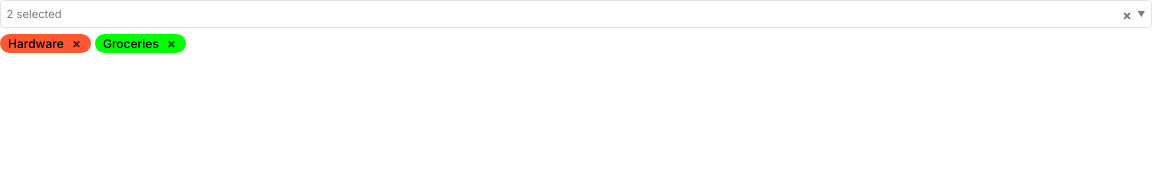
it: TagFilterSelect component › shows footer with count and clear all link when tags selected
The image size is (1152, 172).
Click the dropdown.
click(576, 14)  # box [0,0,1151,28]
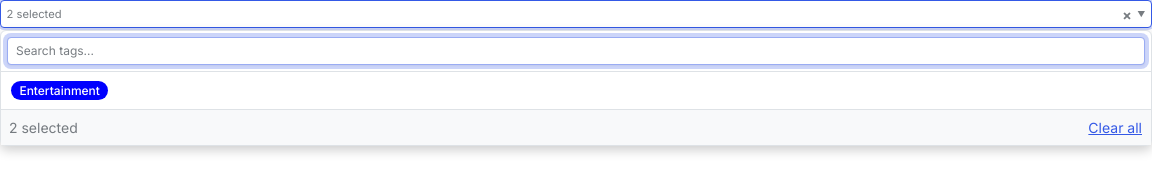
Expected: the button "Clear all" is shown, [1087,116,1143,139]
